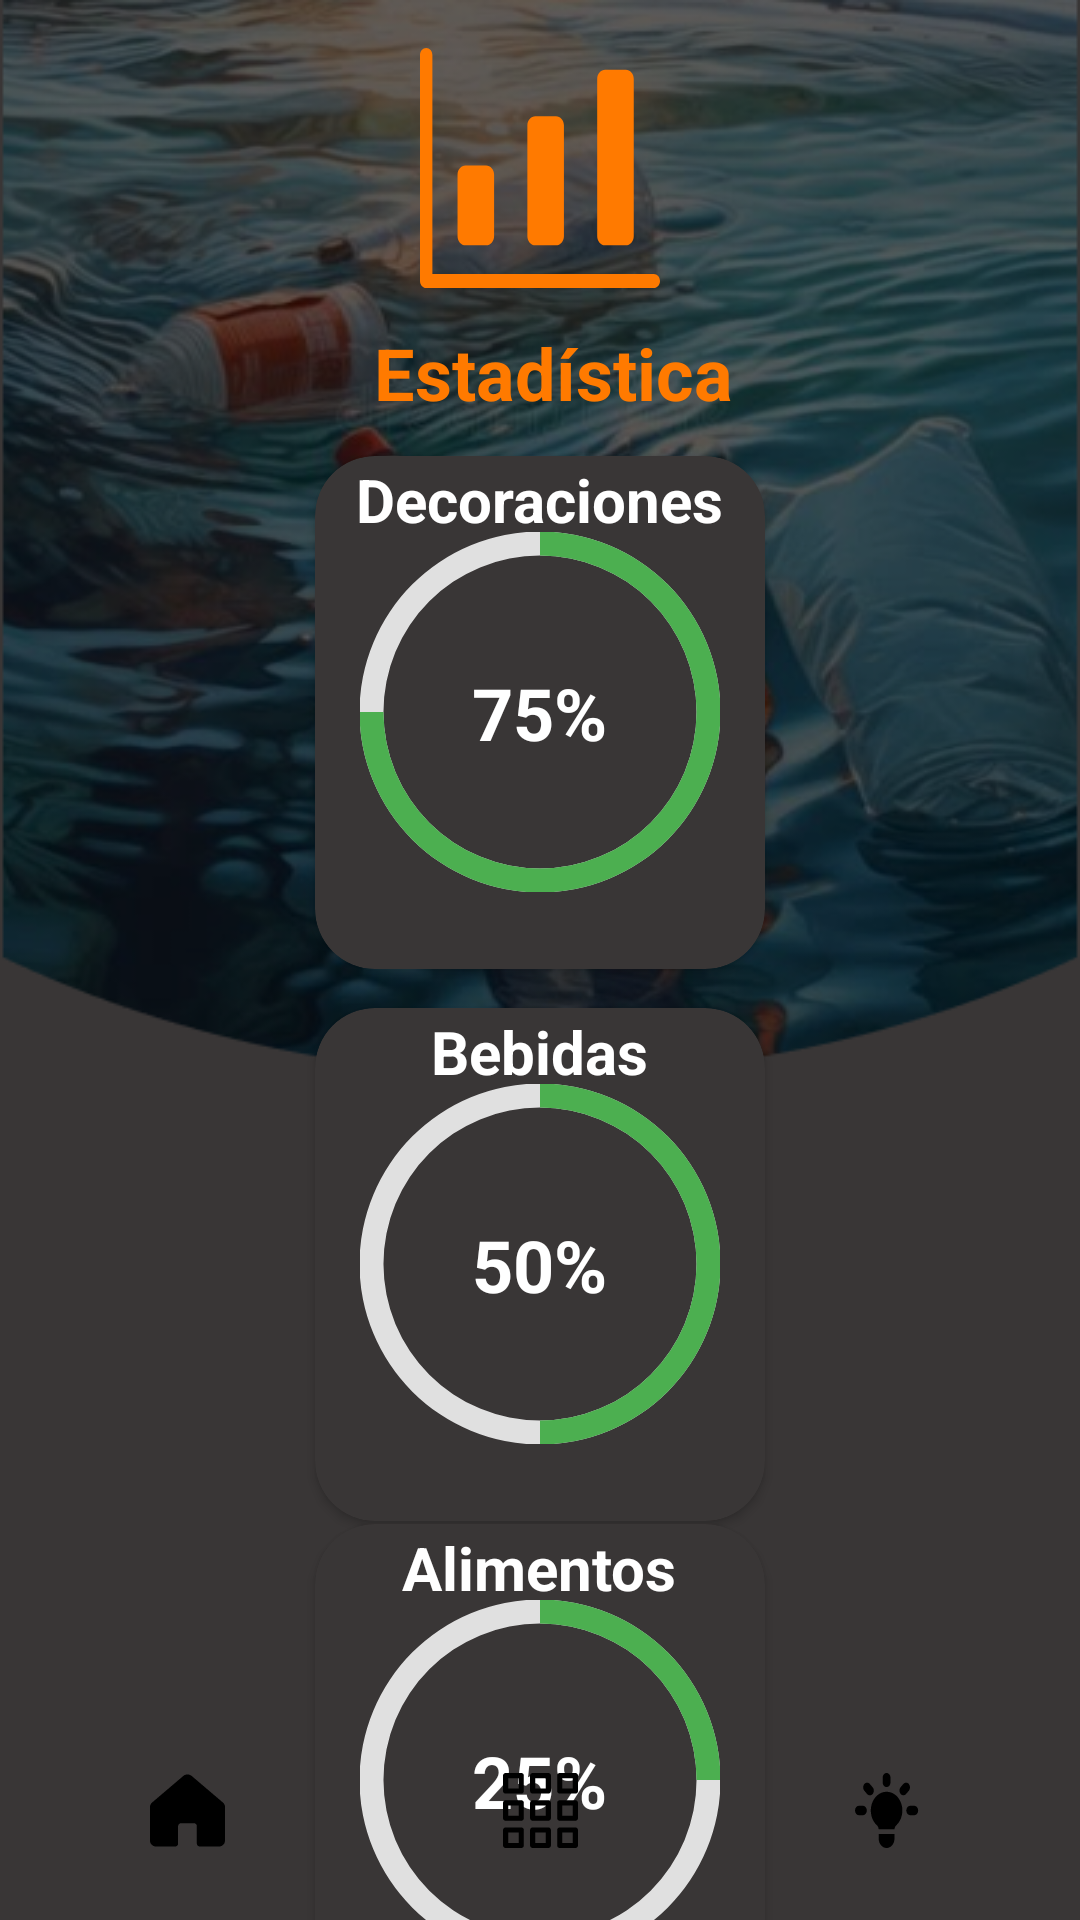

Screen size 1080w x 1920h. Icon name, then its box in pixels as {"left": x1, "top": y1, "right": x2, "bottom": y2}:
consejos: {"left": 855, "top": 1773, "right": 918, "bottom": 1848}
home: {"left": 150, "top": 1774, "right": 225, "bottom": 1847}
